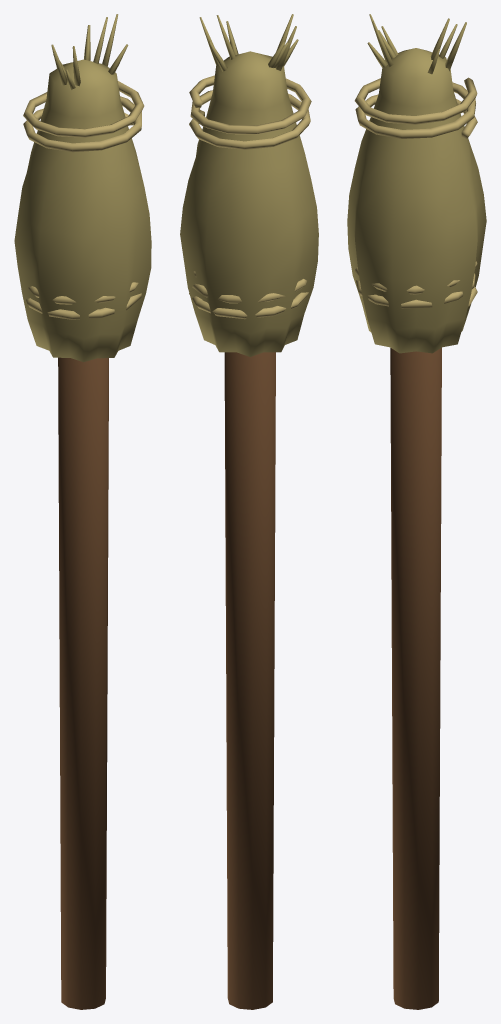
File: torche.glb
The picture shows the model from 3 angles, left to right: view 1: azimuth 30°, elevation 25°; view 2: azimuth 150°, elevation 25°; view 3: azimuth 330°, elevation 25°; orthographic projection.
Visible parts, largest first — view 1: Torche_reelle; view 2: Torche_reelle; view 3: Torche_reelle.
Part boxes in pixels (left/top/right/bottom): Torche_reelle: left=14, top=14, right=151, bottom=1009; Torche_reelle: left=180, top=14, right=318, bottom=1009; Torche_reelle: left=347, top=14, right=486, bottom=1009.
Size of the model in its own units: 0.075 by 0.5917 by 0.0743.
